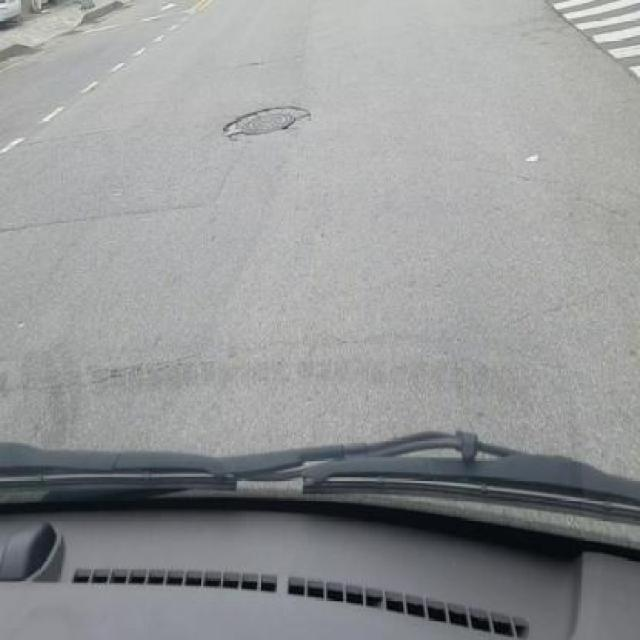Manhole: (220, 102, 314, 144)
